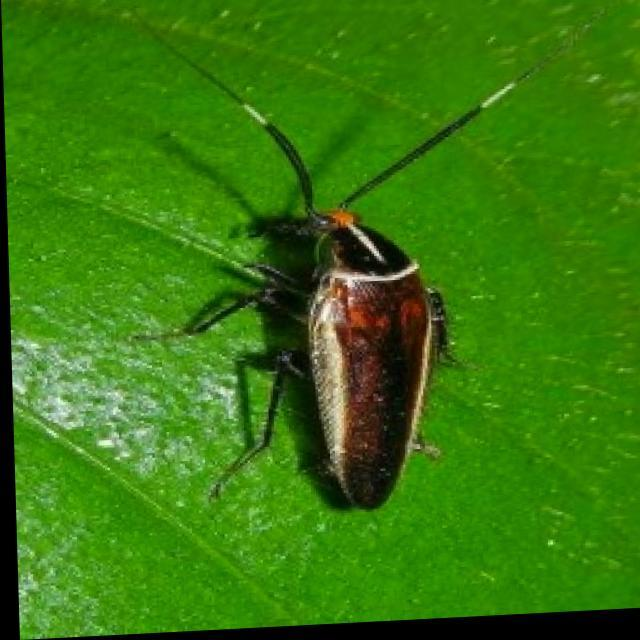cockroach: (200, 118, 488, 550)
